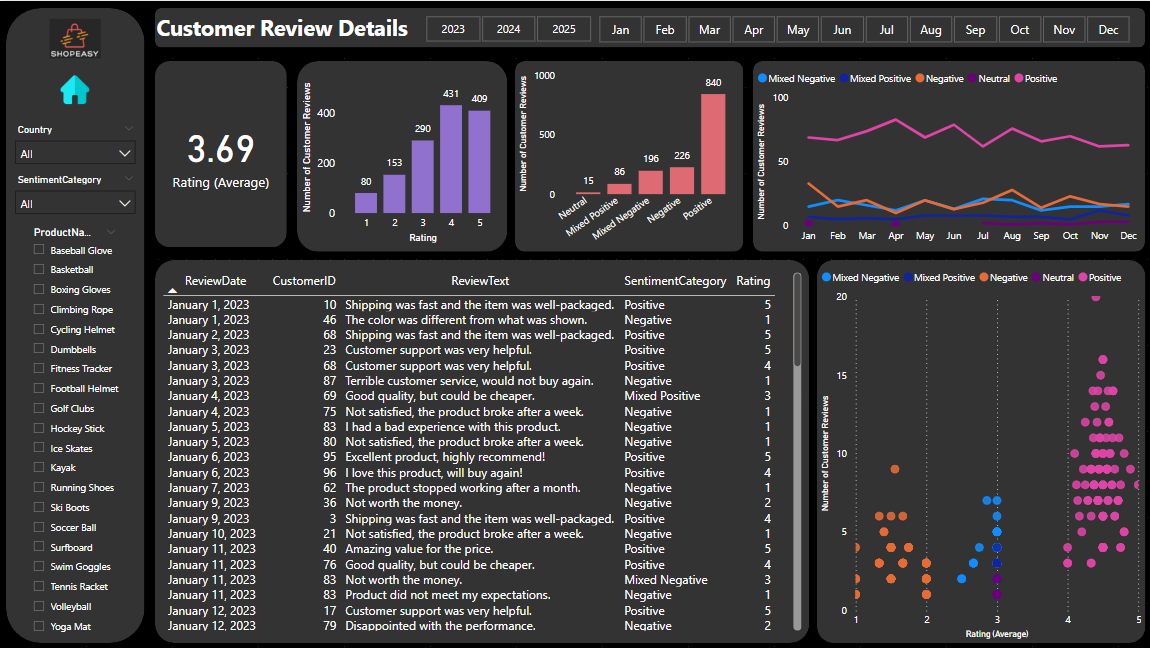

The dashboard page shown, as its layout file describes it:
{"tool":"powerbi","page":{"name":"Customer Review Details","canvas":[1280,720],"ordinal":3},"visuals":[{"type":"shape","box":[172.1,288,727.2,425.7],"z":0},{"type":"shape","box":[836.8,66.1,435.6,211.9],"z":1000},{"type":"shape","box":[172.1,8.2,1100.4,44.4],"z":2000},{"type":"slicer","fields":{"Values":["Calendar.MonthNameShort"]},"box":[640.3,10,639.4,42.6],"z":3000},{"type":"slicer","fields":{"Values":["Calendar.Year"]},"box":[448.3,10,232.8,41.7],"z":4000},{"type":"shape","box":[172.1,66.1,146.7,207.4],"z":5000},{"type":"textbox","box":[168.5,8.2,321.5,55.2],"z":6000},{"type":"shape","box":[572.4,66.1,253.6,211.9],"z":7000},{"type":"shape","box":[329.7,66.1,233.7,211.9],"z":8000},{"type":"shape","box":[6.3,8.2,154,705.5],"z":9000},{"type":"image","box":[49.8,8.2,67,67],"z":10000},{"type":"card","fields":{"Values":["Key Measures.Rating (Average)"]},"box":[171.2,121.4,148.5,96.9],"z":11000},{"type":"clusteredColumnChart","fields":{"Y":["Key Measures.Number of Customer Reviews"],"Category":["fact_customer_reviews_with_sentiment.Rating"]},"box":[329.7,75.2,233.7,198.3],"z":12000},{"type":"clusteredColumnChart","fields":{"Y":["Key Measures.Number of Customer Reviews"],"Category":["fact_customer_reviews_with_sentiment.SentimentCategory"]},"box":[572.4,66.1,253.6,211.9],"z":13000},{"type":"lineChart","fields":{"Y":["Key Measures.Number of Customer Reviews"],"Series":["fact_customer_reviews_with_sentiment.SentimentCategory"],"Category":["Calendar.MonthNameShort"]},"box":[836.8,66.1,435.6,211.9],"z":14000},{"type":"tableEx","fields":{"Values":["fact_customer_reviews_with_sentiment.ReviewDate","fact_customer_reviews_with_sentiment.CustomerID","fact_customer_reviews_with_sentiment.ReviewText","fact_customer_reviews_with_sentiment.SentimentCategory","fact_customer_reviews_with_sentiment.Rating"]},"box":[175.7,296.2,720,408.5],"z":15000},{"type":"shape","box":[907.5,288,365,425.7],"z":16000},{"type":"scatterChart","fields":{"X":["Key Measures.Rating (Average)"],"Y":["Key Measures.Number of Customer Reviews"],"Category":["fact_customer_reviews_with_sentiment.CustomerID"],"Series":["fact_customer_reviews_with_sentiment.SentimentCategory"]},"box":[907.5,288,365,425.7],"z":17000},{"type":"slicer","fields":{"Values":["fact_customer_reviews_with_sentiment.SentimentCategory"]},"box":[6.3,422.9,154,58.9],"z":18000},{"type":"slicer","fields":{"Values":["dim_customers.Country"]},"box":[6.3,350.5,154,53.4],"z":19000},{"type":"slicer","fields":{"Values":["dim_products.ProductName"]},"box":[6.3,500.8,153.1,58],"z":20000},{"type":"pageNavigator","box":[11.8,174.8,143.1,138.6],"z":21000},{"type":"image","box":[55.2,96,55.2,50.7],"z":22000}]}

Visuals, with their boxes in screenshot pixels (x1, y1, x2, y2), scaled from the page's 1280x720 canvas onto the 1150x648 screenshot:
shape: bbox=[155, 259, 808, 642]
shape: bbox=[752, 59, 1143, 250]
shape: bbox=[155, 7, 1143, 47]
slicer - Calendar.MonthNameShort: bbox=[575, 9, 1149, 47]
slicer - Calendar.Year: bbox=[403, 9, 612, 47]
shape: bbox=[155, 59, 286, 246]
textbox: bbox=[151, 7, 440, 57]
shape: bbox=[514, 59, 742, 250]
shape: bbox=[296, 59, 506, 250]
shape: bbox=[6, 7, 144, 642]
image: bbox=[45, 7, 105, 68]
card - Key Measures.Rating (Average): bbox=[154, 109, 287, 196]
clusteredColumnChart - Key Measures.Number of Customer Reviews x fact_customer_reviews_with_sentiment.Rating: bbox=[296, 68, 506, 246]
clusteredColumnChart - Key Measures.Number of Customer Reviews x fact_customer_reviews_with_sentiment.SentimentCategory: bbox=[514, 59, 742, 250]
lineChart - Key Measures.Number of Customer Reviews x fact_customer_reviews_with_sentiment.SentimentCategory: bbox=[752, 59, 1143, 250]
tableEx - fact_customer_reviews_with_sentiment.ReviewDate x fact_customer_reviews_with_sentiment.CustomerID: bbox=[158, 267, 805, 634]
shape: bbox=[815, 259, 1143, 642]
scatterChart - Key Measures.Rating (Average) x Key Measures.Number of Customer Reviews: bbox=[815, 259, 1143, 642]
slicer - fact_customer_reviews_with_sentiment.SentimentCategory: bbox=[6, 381, 144, 434]
slicer - dim_customers.Country: bbox=[6, 315, 144, 364]
slicer - dim_products.ProductName: bbox=[6, 451, 143, 503]
pageNavigator: bbox=[11, 157, 139, 282]
image: bbox=[50, 86, 99, 132]
